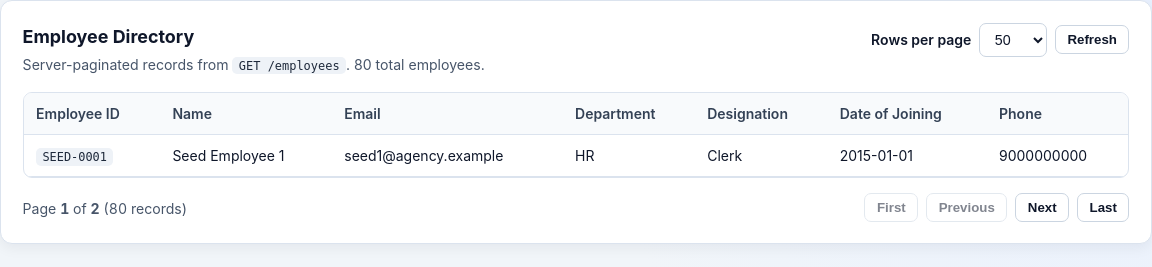
it: EmployeeDirectory › requests server-paginated employees and navigates pages
Expected: the text "SEED-0001" is shown, [36,148,113,166]
Click the button "Next". click: [1042, 207]
box: [1015,193,1069,222]
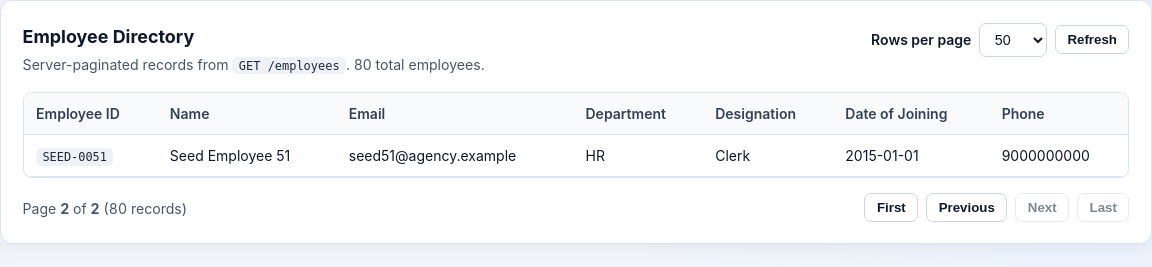
Now the text "SEED-0051" is shown, box [36,148,113,166]
